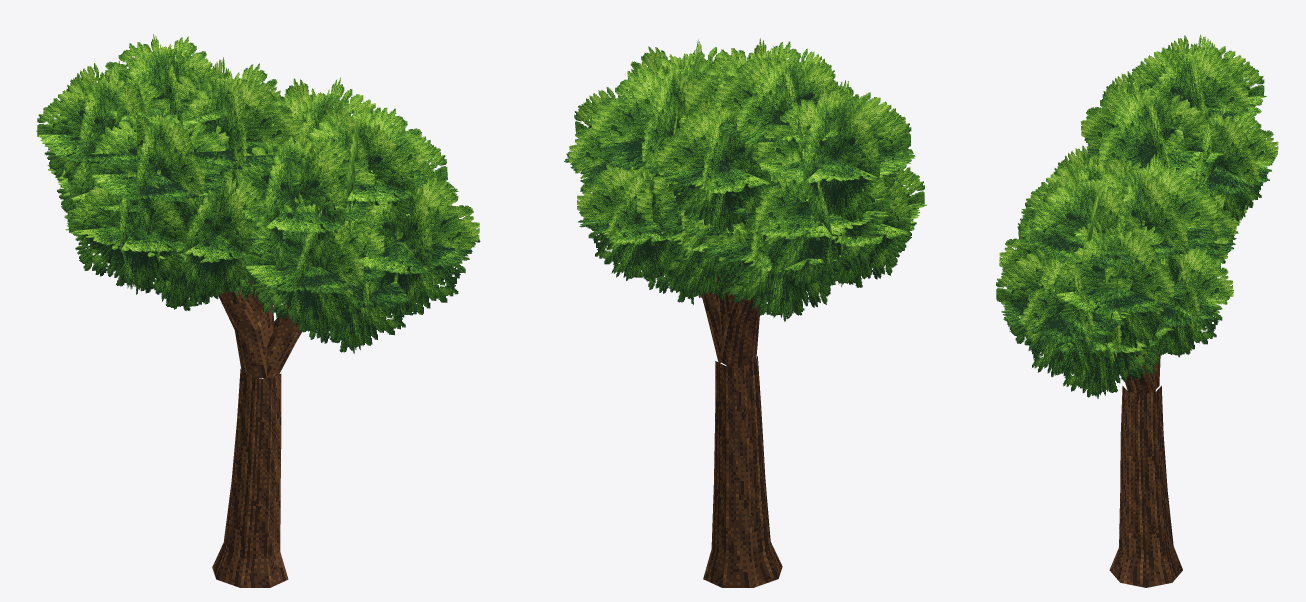
File: arvore_betula_ps1-1.glb
3 views of the same model, side by side, from view 1: azimuth 30°, elevation 25°; view 2: azimuth 150°, elevation 25°; view 3: azimuth 270°, elevation 25° (orthographic). The views are drawn at different scales.
Visible parts, largest first — view 1: ArvoreBetula_PS1; view 2: ArvoreBetula_PS1; view 3: ArvoreBetula_PS1.
Boxes of the visible parts, <box> form: ArvoreBetula_PS1: <box>36,34,480,587</box>; ArvoreBetula_PS1: <box>564,38,926,587</box>; ArvoreBetula_PS1: <box>996,34,1278,587</box>.
Size of the model in its own units: 7.05 by 9.23 by 5.41.
2 materials, 2 textured.
